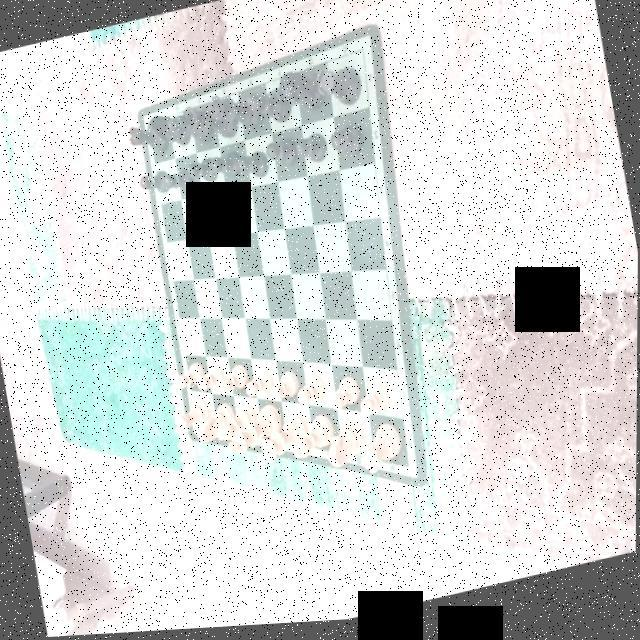chess-table-corners: (355, 43, 369, 64), (402, 463, 414, 481), (191, 424, 201, 436)
